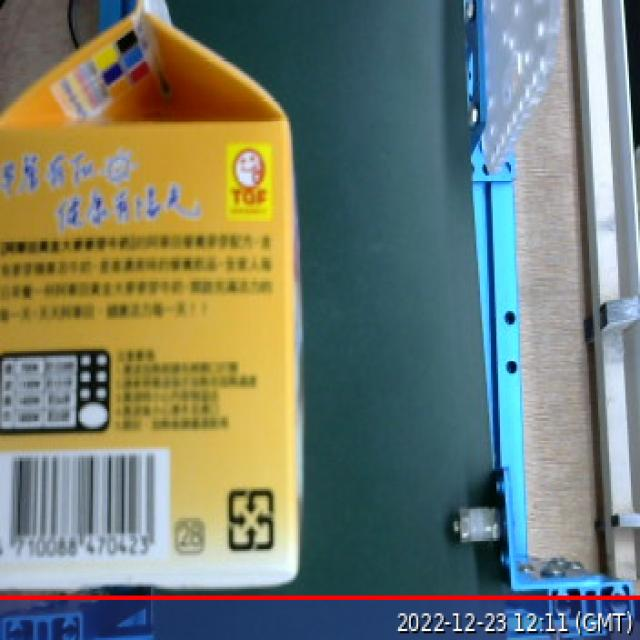non_white_jug: (0, 0, 323, 601)
